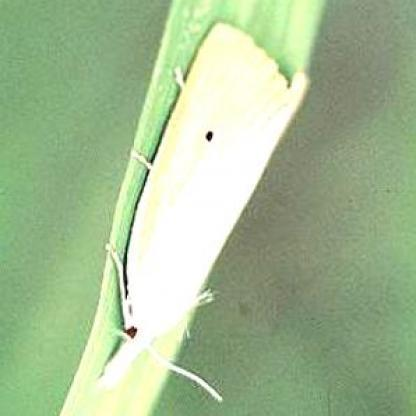stem-borer: (90, 17, 313, 406)
